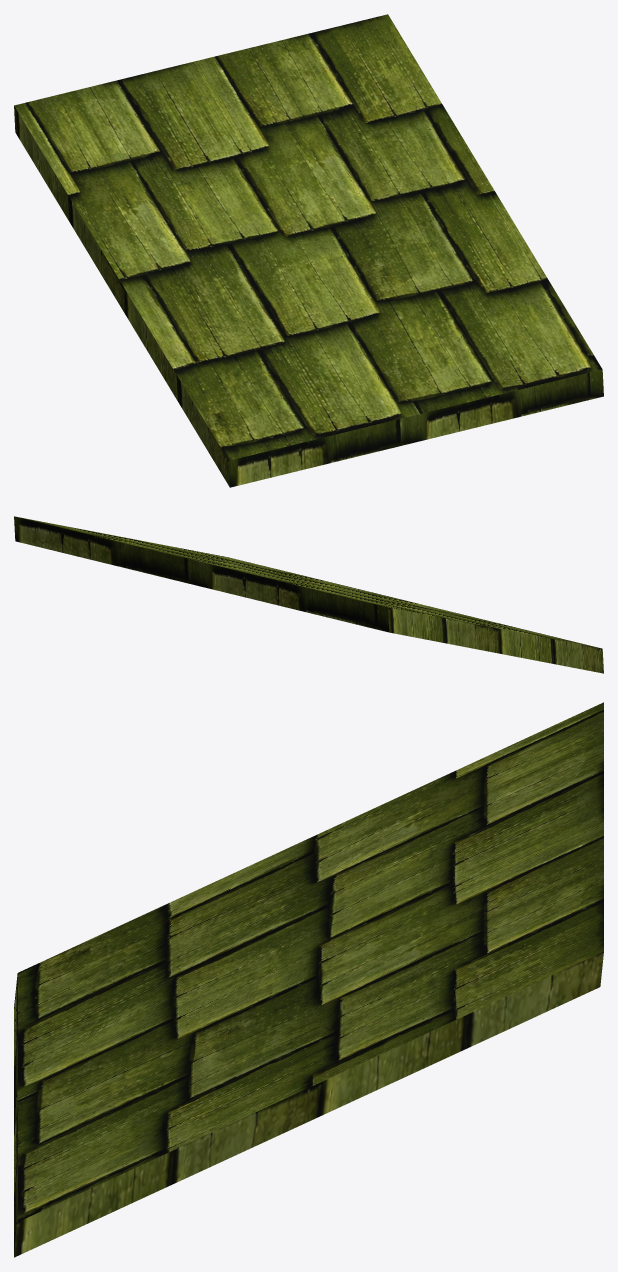
File: tile roofing2.glb
The picture shows the model from 3 angles, top to bottom: view 1: azimuth 30°, elevation 25°; view 2: azimuth 150°, elevation 25°; view 3: azimuth 270°, elevation 25°; orthographic projection. The views are drawn at different scales.
Visible parts, largest first — view 1: Plane.002; view 2: Plane.002; view 3: Plane.002.
Part boxes in pixels (x1,y1,x2,y2): Plane.002: [14, 14, 603, 487]; Plane.002: [14, 516, 603, 673]; Plane.002: [14, 702, 603, 1257].
Size of the model in its own units: 1 by 0.5726 by 1.
1 material, 1 textured.
